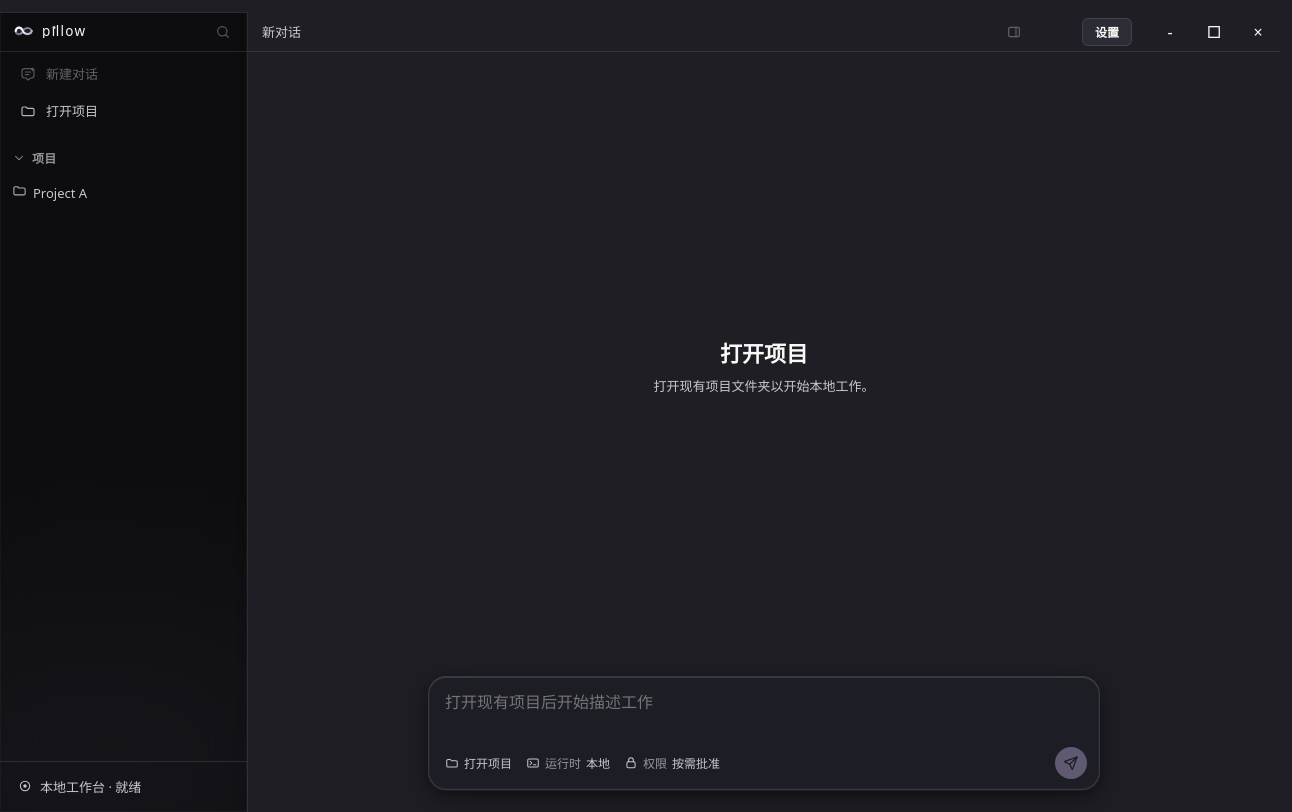
it: conversation list race (accepted send vs late project-effect list) › keeps the newly created conversation selected after a late older list lands
Click the button "Project A" at (124, 192), box [4, 176, 243, 209]
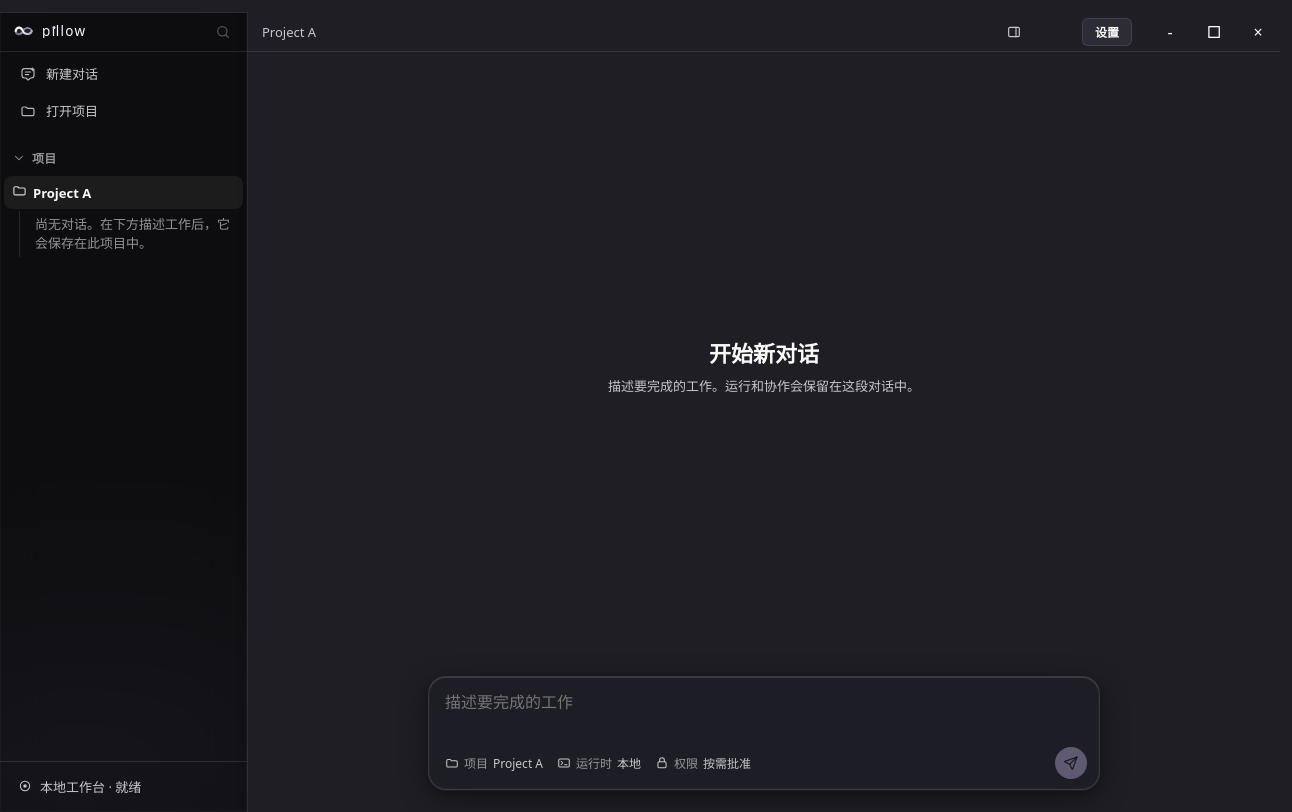
Type "race prompt" into the text box named "工作请求" at (764, 713), box [441, 687, 1087, 739]
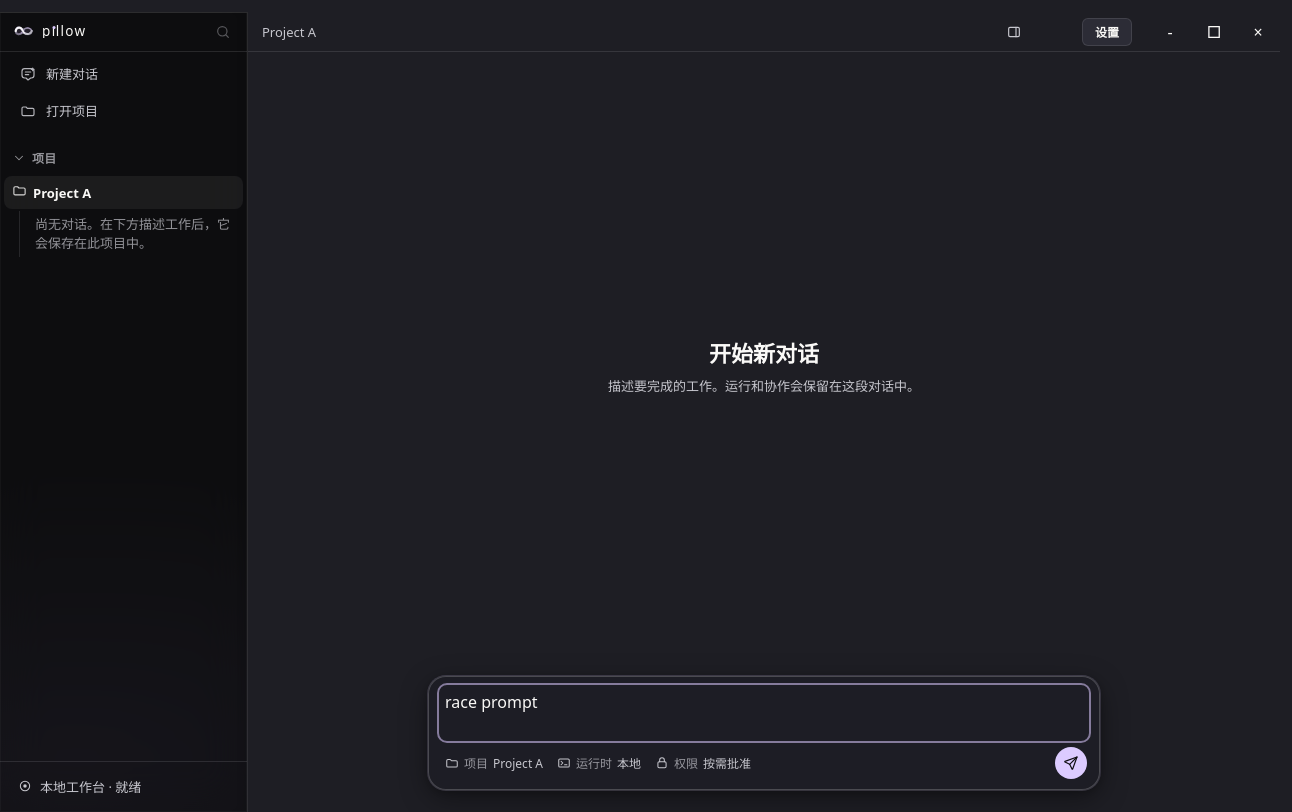
Click the button with test id "composer-send" at (1071, 763), box [1055, 747, 1087, 779]
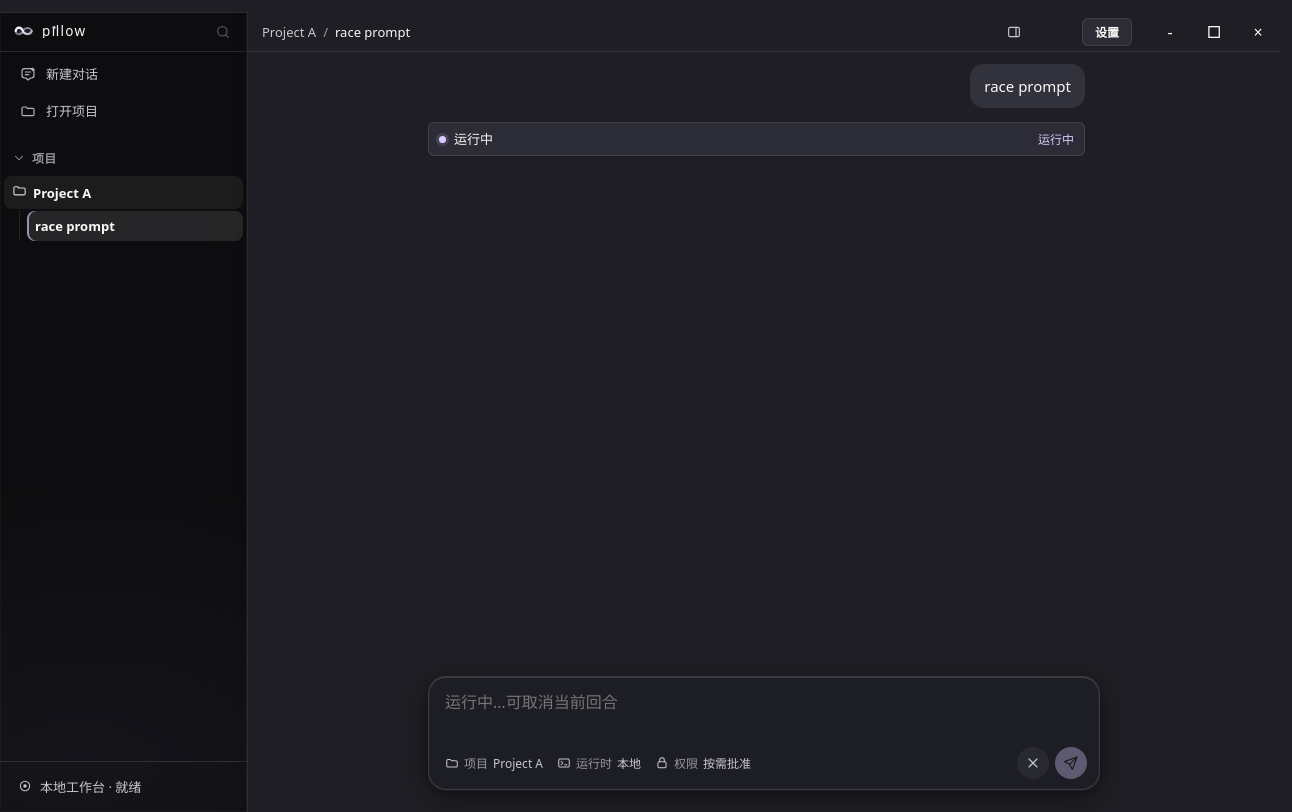
Now the text "race prompt" below "llow" is shown, box [35, 217, 115, 235]
